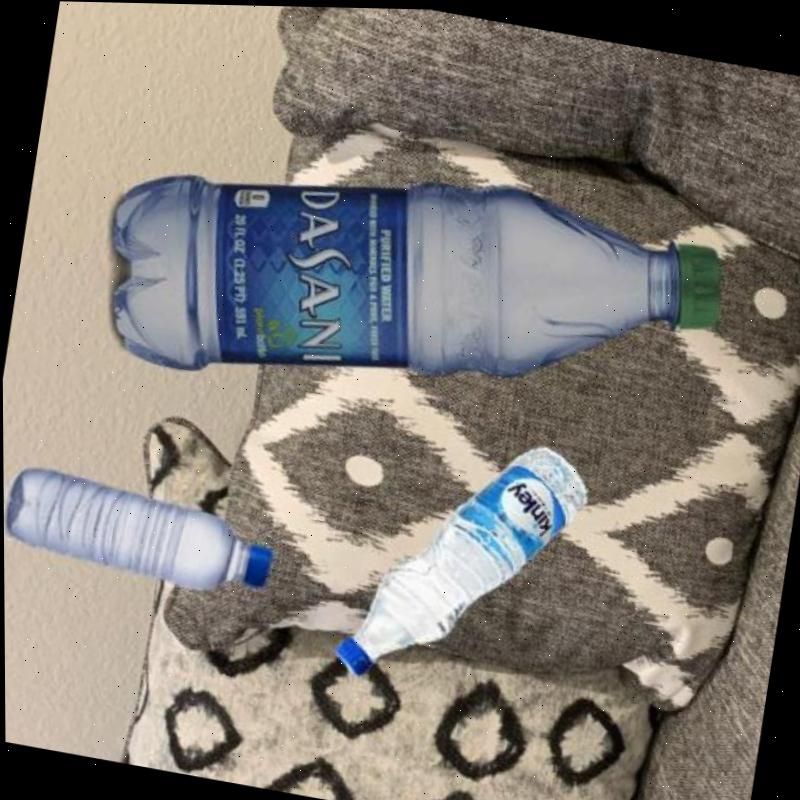botella: (87, 117, 728, 464), (326, 410, 596, 710), (3, 463, 277, 600)
